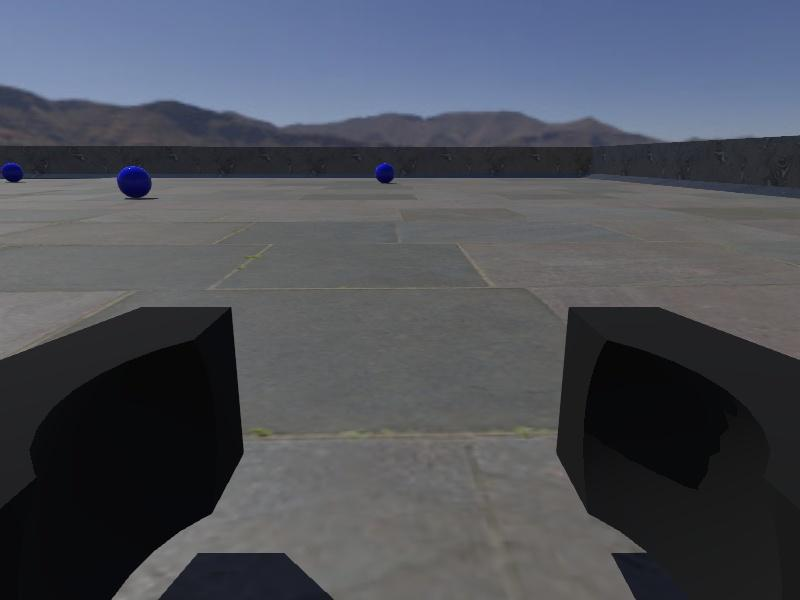blue ball: (116, 164, 152, 200), (0, 162, 25, 185), (373, 162, 395, 185)
